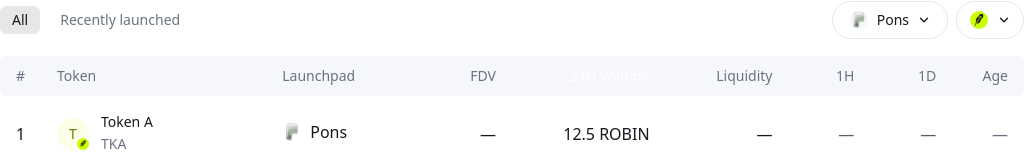
Scenario: LaunchList › switches tabs without navigating
Step 1. Click the link "Recently launched" → (120, 20), box left=60, top=10, right=180, bottom=29
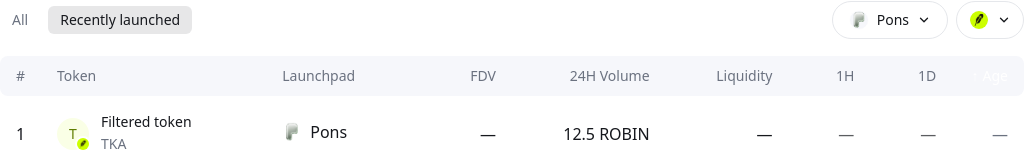
Now the text "Filtered token" is shown, box left=101, top=112, right=192, bottom=132
